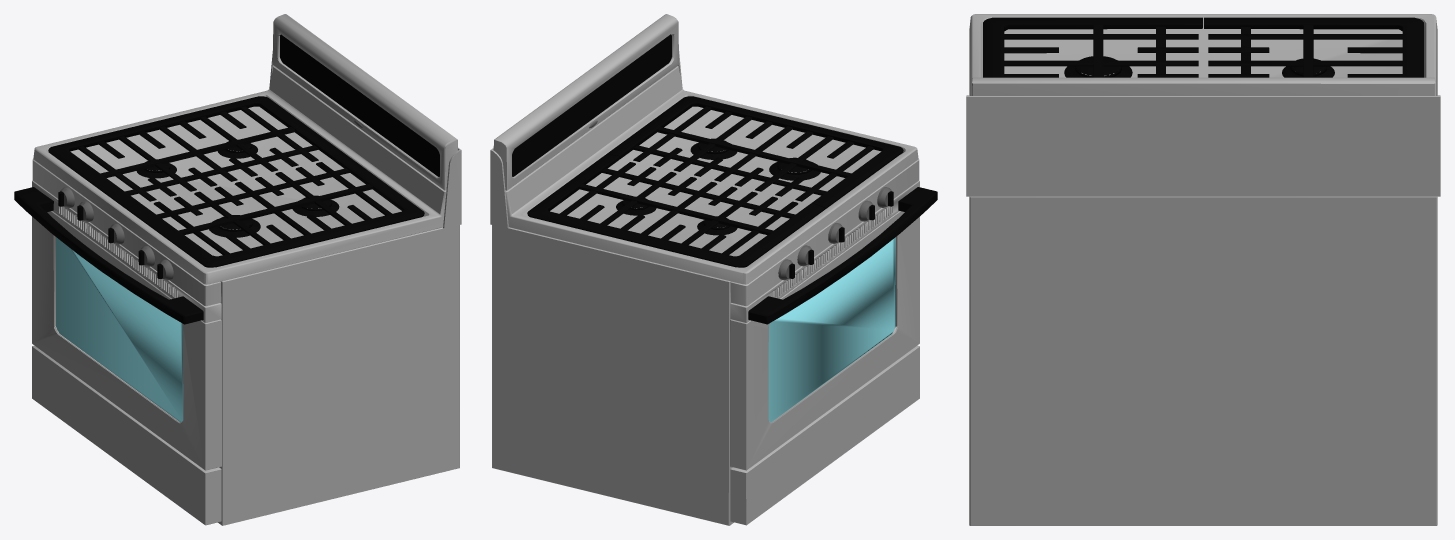
File: oven.fbx
3 views of the same model, side by side, from view 1: azimuth 30°, elevation 25°; view 2: azimuth 150°, elevation 25°; view 3: azimuth 270°, elevation 25° (orthographic). The views are drawn at different scales.
Parts seen in each view (by area): view 1: DB_Apps&Tech_04_13; view 2: DB_Apps&Tech_04_13; view 3: DB_Apps&Tech_04_13.
Boxes of the visible parts, x1,y1,x2,y2 form: DB_Apps&Tech_04_13: (14, 14, 461, 525); DB_Apps&Tech_04_13: (490, 14, 937, 525); DB_Apps&Tech_04_13: (966, 14, 1440, 525).
Bounding box in the file's own units: 96.9 × 108 × 104.
